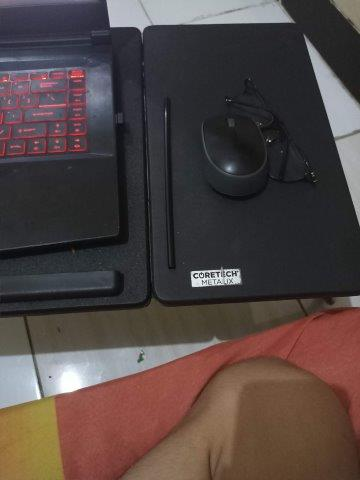sedotan: (163, 98, 176, 269)
